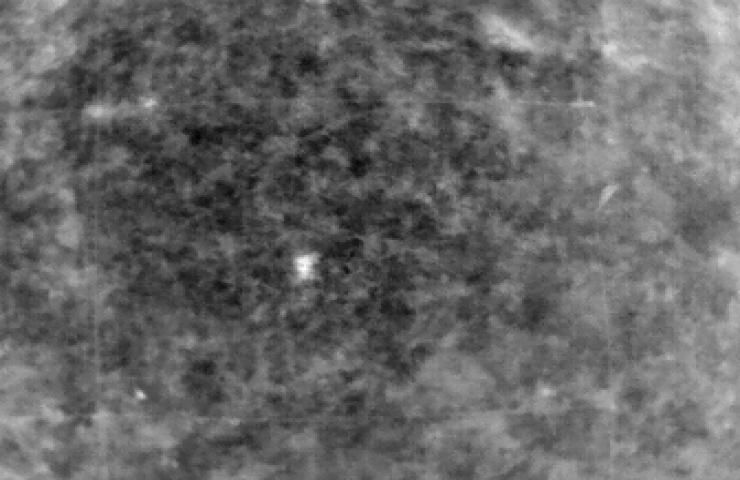landmines: (292, 250, 320, 281)
